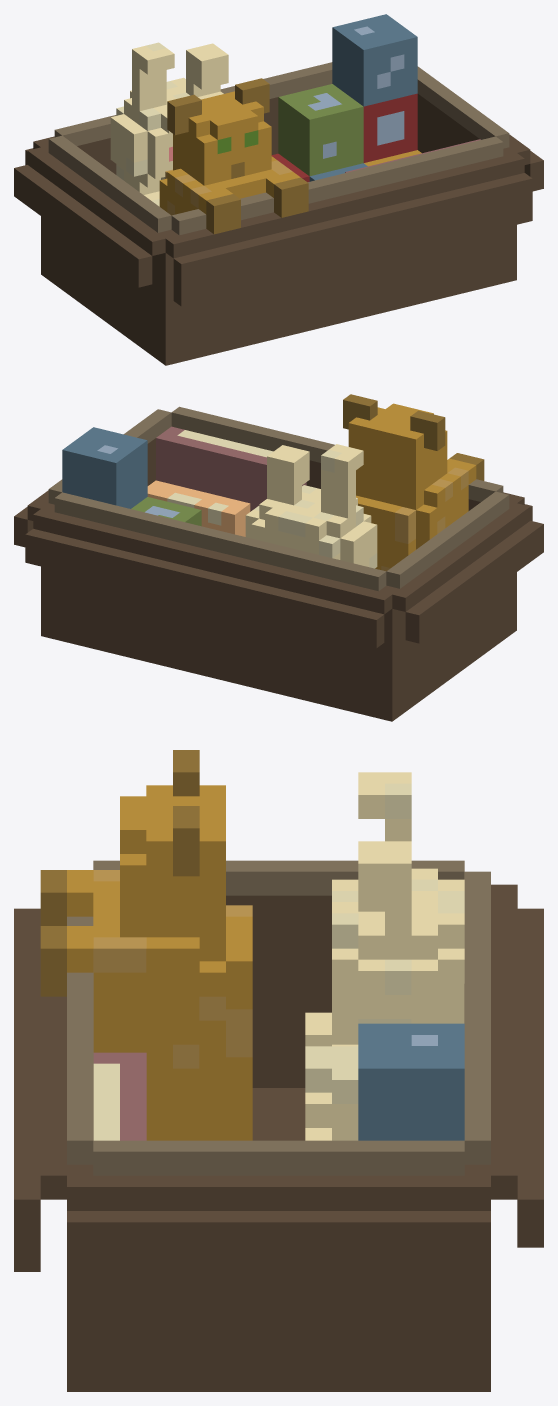
Rendered from toybox.obj.
The picture shows the model from 3 angles, top to bottom: view 1: azimuth 30°, elevation 25°; view 2: azimuth 150°, elevation 25°; view 3: azimuth 270°, elevation 25°; orthographic projection. The views are drawn at different scales.
Bounding box in the file's own units: 3 × 1.6 × 2.
Materials: 1 (1 with a texture image).
